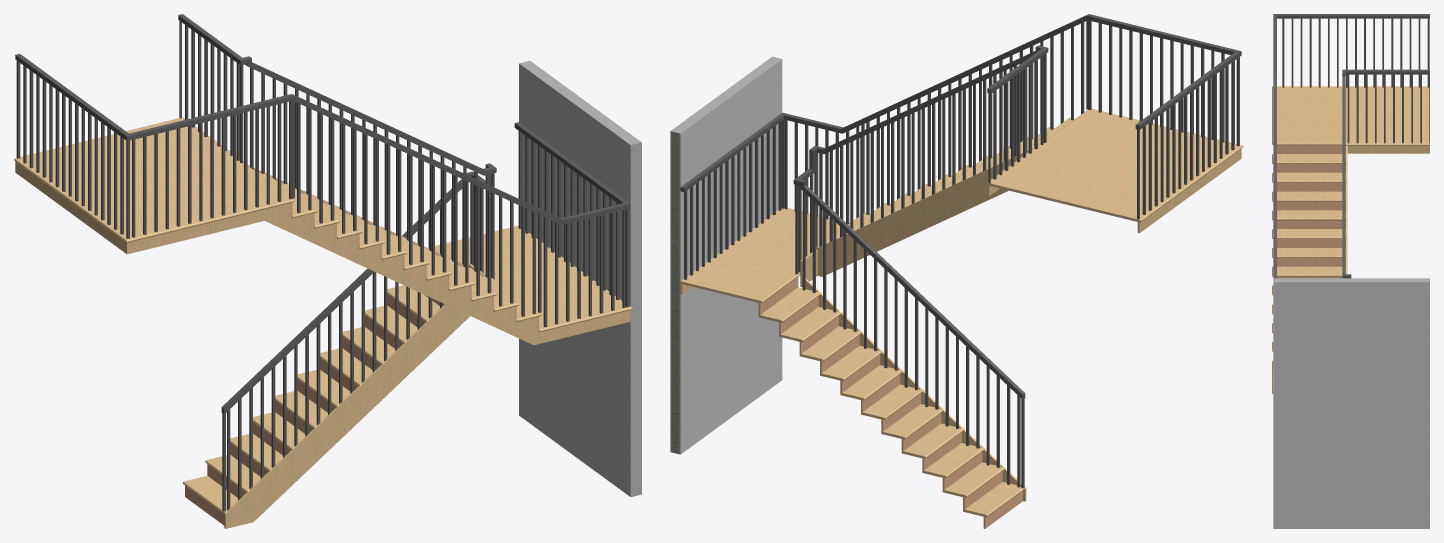
The model's file is stairs.glb.
3 renders of one model, left to right at view 1: azimuth 30°, elevation 25°; view 2: azimuth 150°, elevation 25°; view 3: azimuth 270°, elevation 25°, orthographic. The views are drawn at different scales.
Parts seen in each view (by area): view 1: 475, 1419, 1673, 1495, 1673.001, 1419.001; view 2: 475, 1419, 1673, 1495, 1419.001, 1673.002, 1673.001; view 3: 1673, 1419, 1419.001, 475, 1495, 1673.001.
Part boxes in pixels (x1,y1,x2,y2): 475: (16,21,628,511); 1419: (14,117,632,528); 1673: (519,63,630,496); 1495: (15,14,630,414); 1673.001: (519,61,641,496); 1419.001: (185,202,538,525); 475: (680,20,1239,488); 1419: (679,108,1243,517); 1673: (670,59,782,454); 1495: (680,14,1241,399); 1419.001: (758,277,1022,528); 1673.002: (671,131,679,454); 1673.001: (671,56,781,133); 1673: (1273,282,1429,528); 1419: (1272,86,1429,393); 1419.001: (1277,145,1345,278); 475: (1282,18,1429,143); 1495: (1273,14,1429,278); 1673.001: (1273,278,1429,282).
Size of the model in its own units: 5.75 by 5.15 by 2.17.
Materials: 6 (4 with a texture image).
